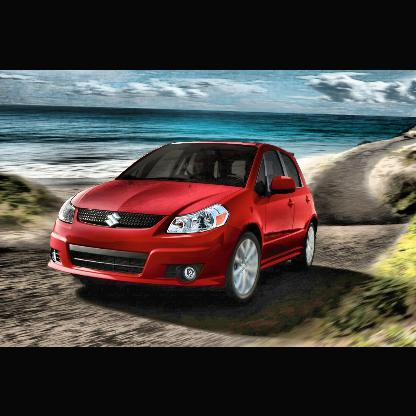Suzuki SX4 Hatchback 2012: (45, 140, 322, 305)
